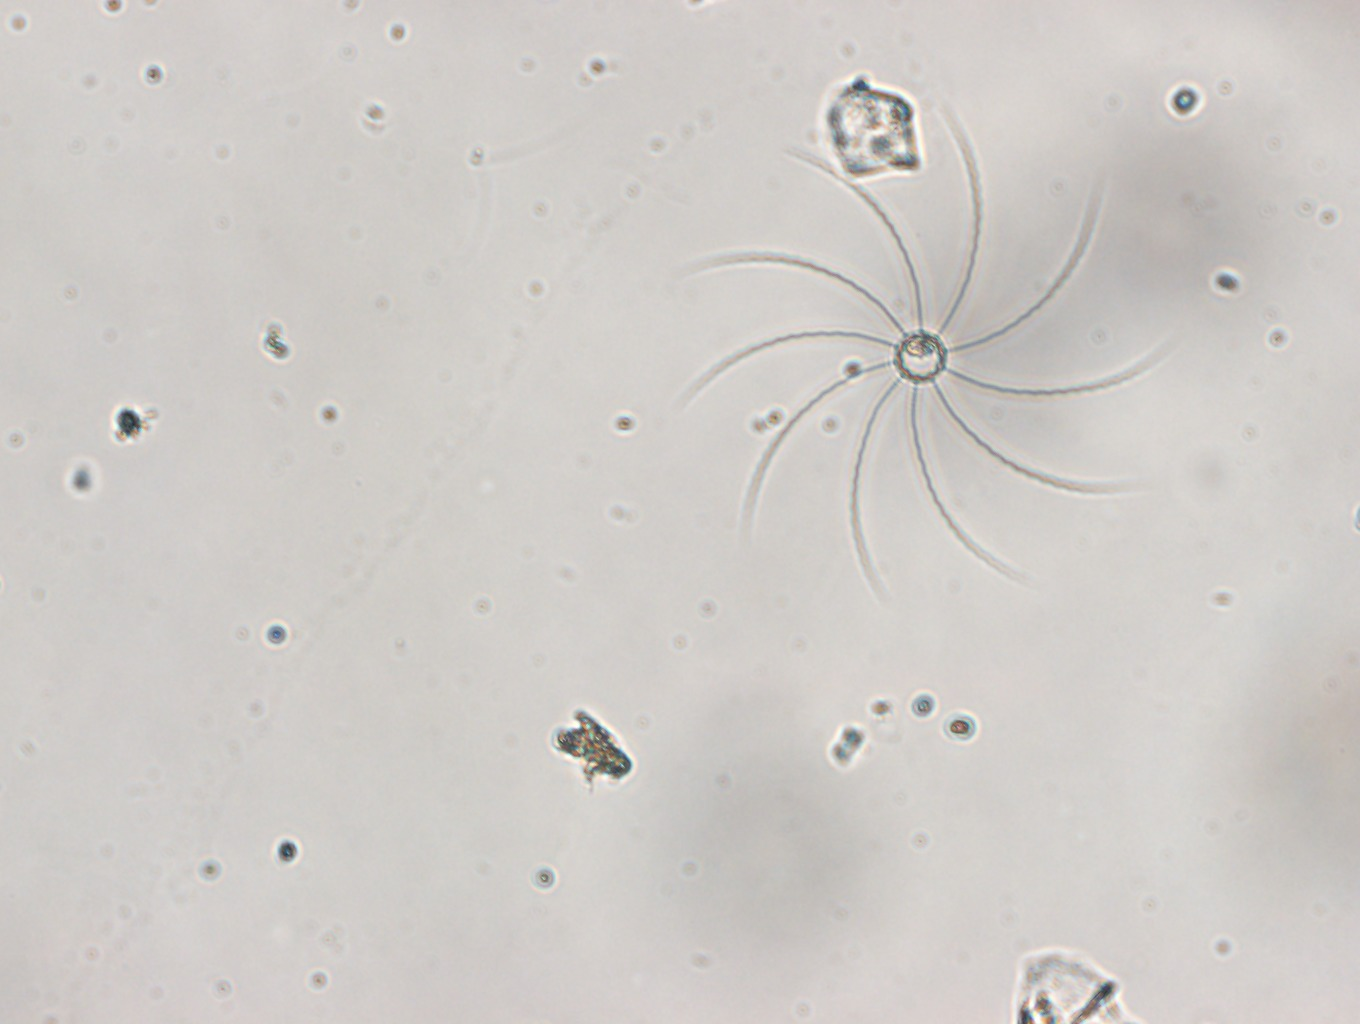bacteriastrum: (675, 100, 1170, 609)
